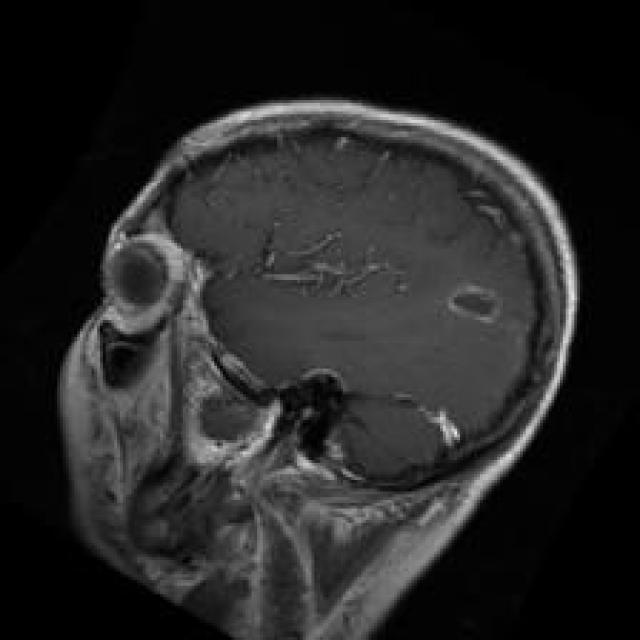glioma_tumor: (425, 270, 525, 340)
